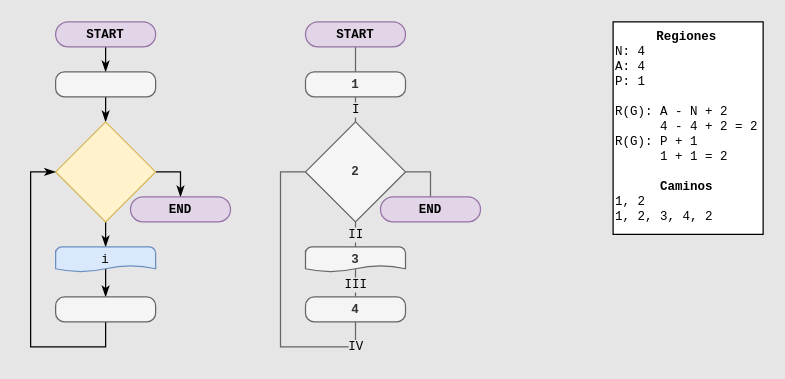
The diagram is 785 pixels wide and 379 high, and some of its shapes have lost their labels. Each missing label, with the centre of its shape:
for i in range 5: pixel 105 171
i -= 1: pixel 105 309
i = 5: pixel 105 84
